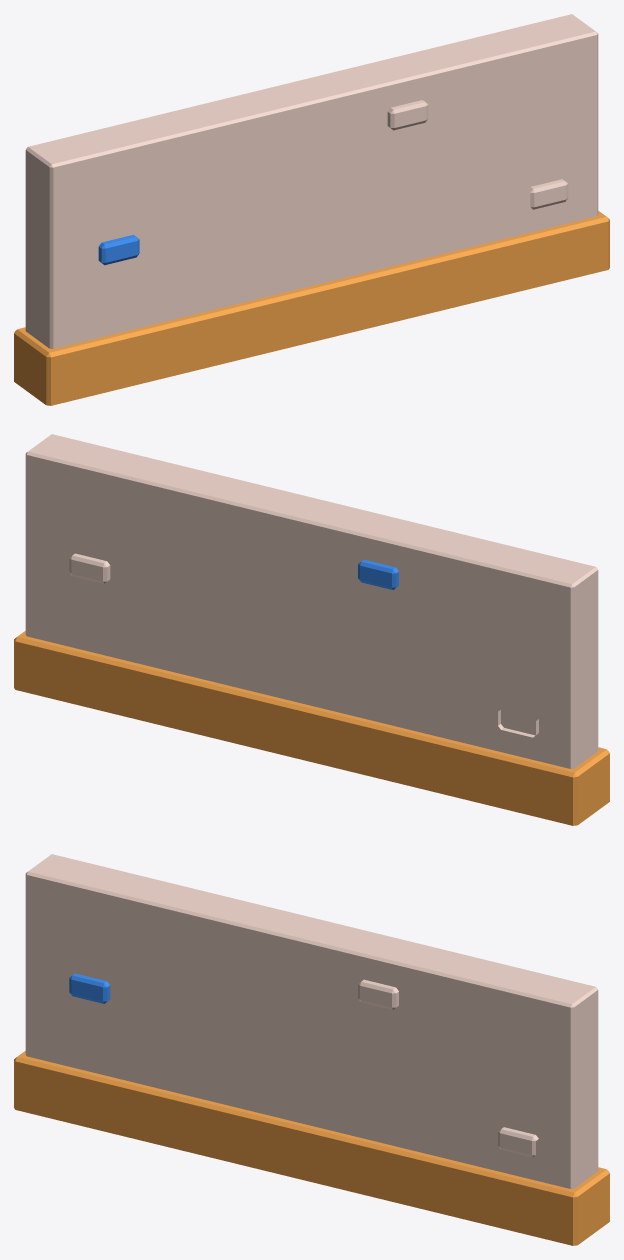
The model's file is Wall(2) Wrld 1 Lvl 3.fbx.
3 renders of one model, top to bottom at view 1: azimuth 30°, elevation 25°; view 2: azimuth 150°, elevation 25°; view 3: azimuth 330°, elevation 25°, orthographic.
Visible parts, largest first — view 1: wall1_2; view 2: wall1_2; view 3: wall1_2.
Part boxes in pixels (x1,y1,x2,y2): wall1_2: [14, 14, 609, 405]; wall1_2: [14, 434, 609, 825]; wall1_2: [14, 854, 609, 1245].
Bounding box in the file's own units: 501 × 200 × 55.11.
